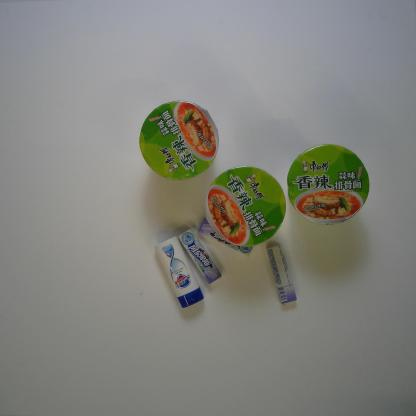Candy: (177, 227, 223, 285), (196, 216, 256, 258), (266, 244, 297, 305)
Instant Noodles: (286, 142, 372, 228), (204, 164, 286, 250), (138, 99, 219, 181)
Personal Hygiene: (153, 234, 205, 308)
